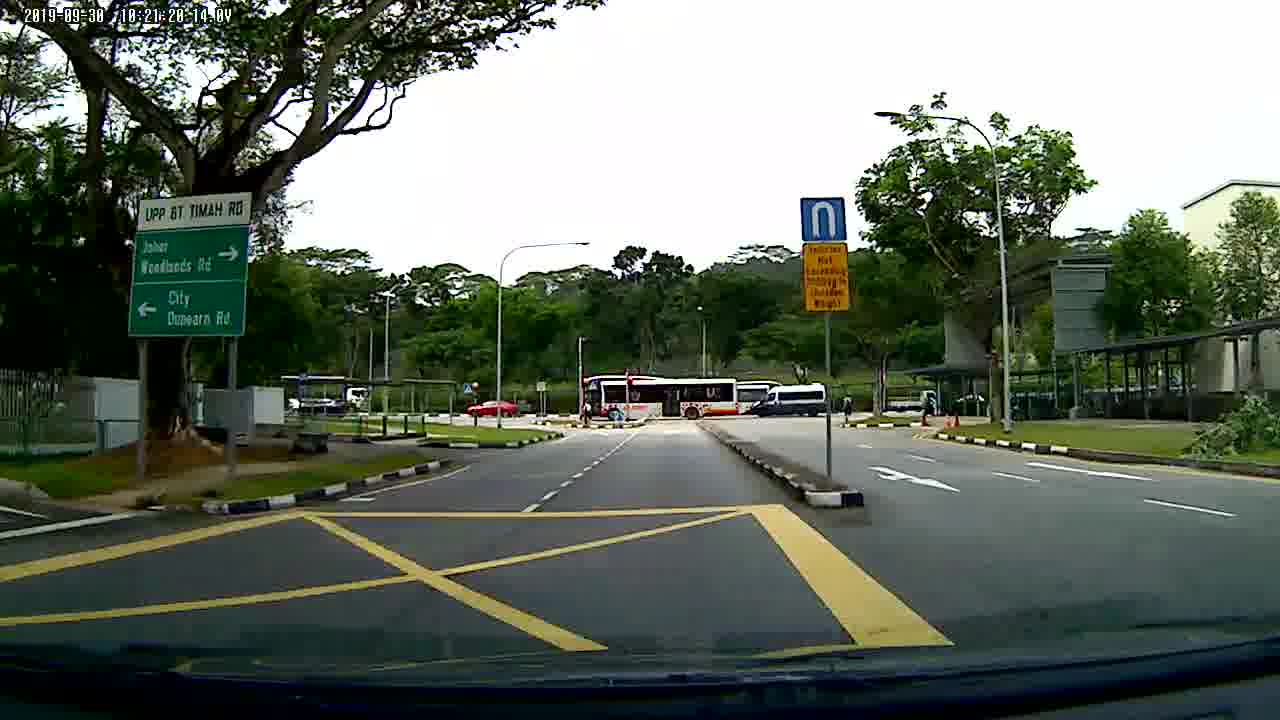bus: (577, 375, 739, 420)
car: (469, 400, 521, 420)
